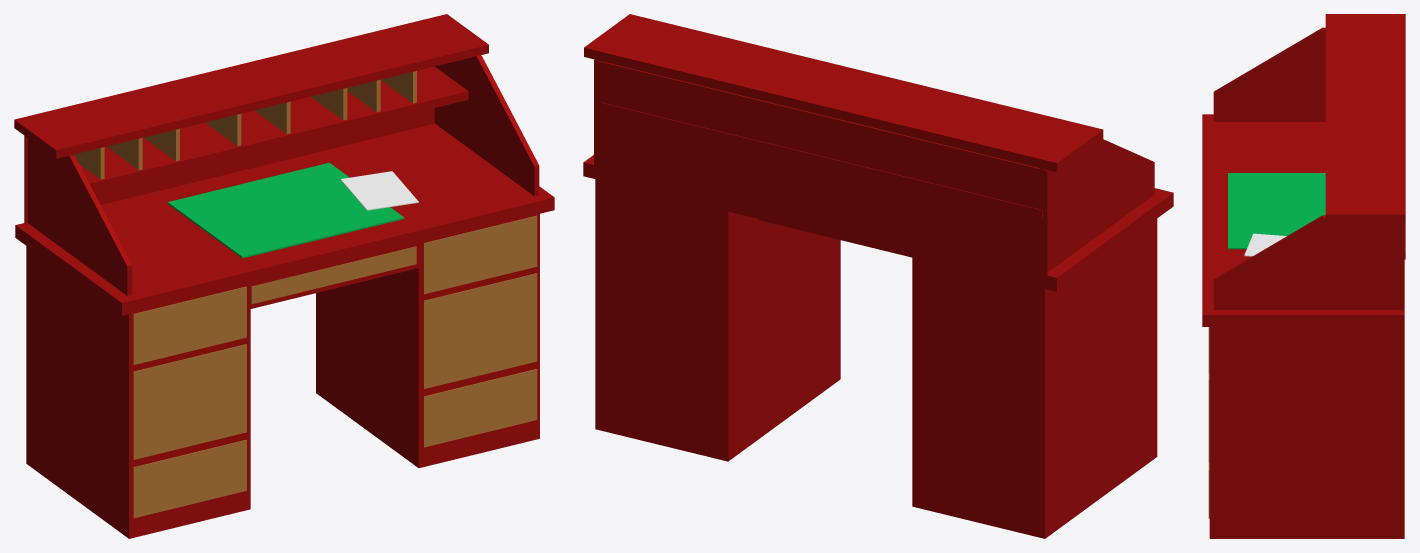
File: sweethome3d-contributions-desk-185.glb
3 views of the same model, side by side, from view 1: azimuth 30°, elevation 25°; view 2: azimuth 150°, elevation 25°; view 3: azimuth 270°, elevation 25° (orthographic). The views are drawn at different scales.
Parts seen in each view (by area): view 1: desktop, left_pillar, top, right_pillar, blotter, shelf, middle_right_drawer, middle_left_drawer, left_top, right_top, bottom_right_drawer, top_right_drawer (+14 smaller); view 2: left_pillar, right_pillar, back, top, desktop, left_top, shelf; view 3: right_pillar, top, right_top, desktop, left_top, blotter, paper.
Part boxes in pixels (left/top/right/bottom): desktop: left=15, top=123, right=554, bottom=315; left_pillar: left=26, top=246, right=250, bottom=538; top: left=14, top=14, right=488, bottom=158; right_pillar: left=316, top=214, right=539, bottom=467; blotter: left=167, top=162, right=404, bottom=258; shelf: left=79, top=66, right=468, bottom=191; middle_right_drawer: left=423, top=273, right=537, bottom=388; middle_left_drawer: left=133, top=344, right=246, bottom=459; left_top: left=27, top=138, right=132, bottom=295; right_top: left=434, top=54, right=539, bottom=196; bottom_right_drawer: left=423, top=369, right=537, bottom=447; top_right_drawer: left=423, top=215, right=537, bottom=294; left_pillar: left=912, top=219, right=1157, bottom=538; right_pillar: left=595, top=179, right=840, bottom=461; back: left=594, top=60, right=1048, bottom=276; top: left=584, top=14, right=1103, bottom=172; desktop: left=583, top=155, right=1173, bottom=291; left_top: left=1040, top=139, right=1154, bottom=271; shelf: left=600, top=102, right=1042, bottom=219; right_pillar: left=1209, top=327, right=1404, bottom=538; top: left=1325, top=14, right=1405, bottom=222; right_top: left=1213, top=215, right=1404, bottom=309; desktop: left=1202, top=114, right=1404, bottom=326; left_top: left=1213, top=27, right=1325, bottom=121; blotter: left=1228, top=173, right=1325, bottom=249; paper: left=1244, top=233, right=1286, bottom=256.
Size of the model in its own units: 5.36 by 4.09 by 2.29.
